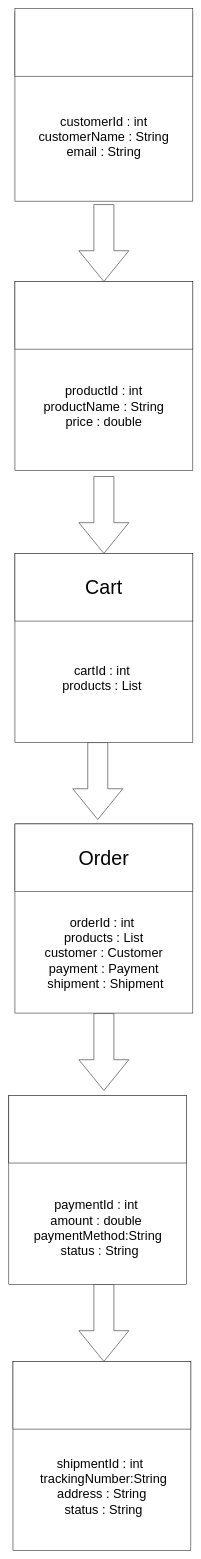
Image size: 201x1559. Some labels were removed from this diagram. Each missing label, with the centre of its shape:
Customer: the point at 103,42
Payment: the point at 97,1129
Product: the point at 103,315
Shipment: the point at 101,1395
